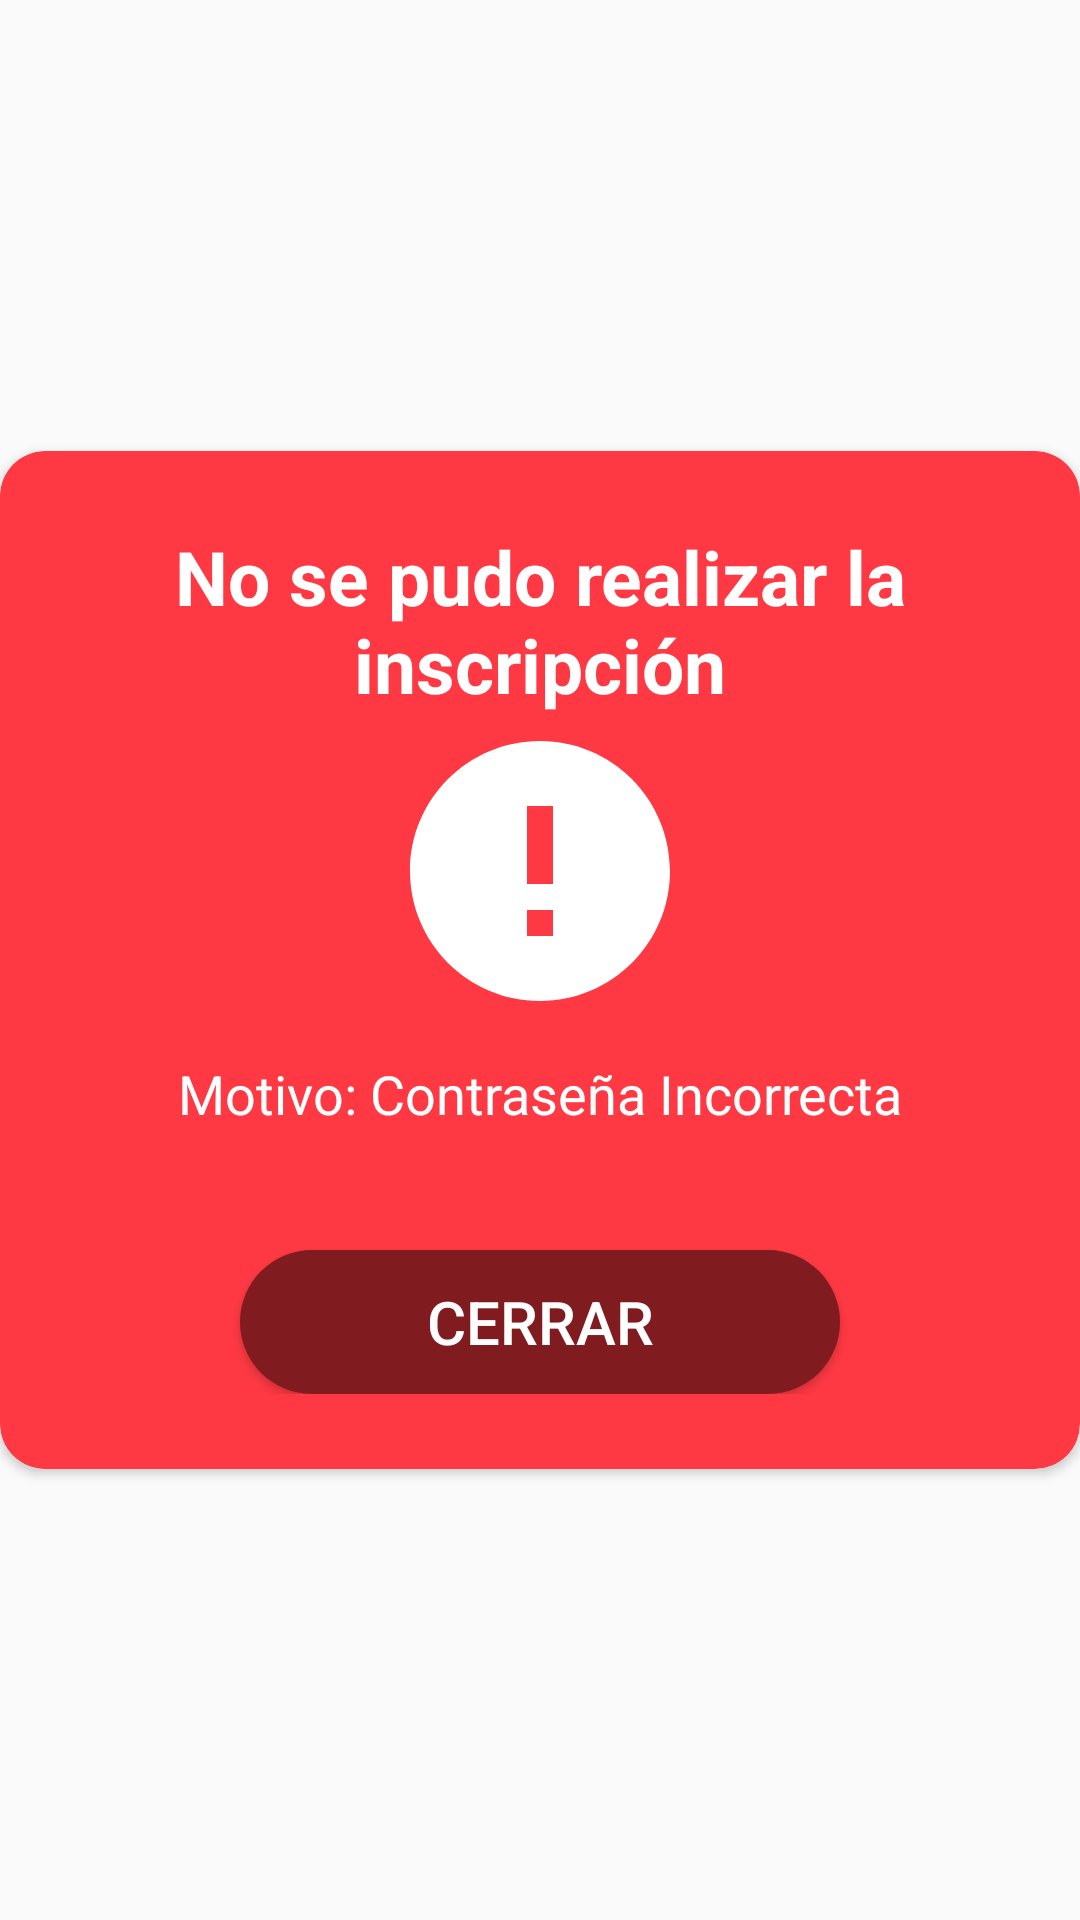

Locate icon controls on the screen. Image size 1080x1920, boxes as (x1, y1, x2, y2).
error: (410, 741, 670, 1001)
